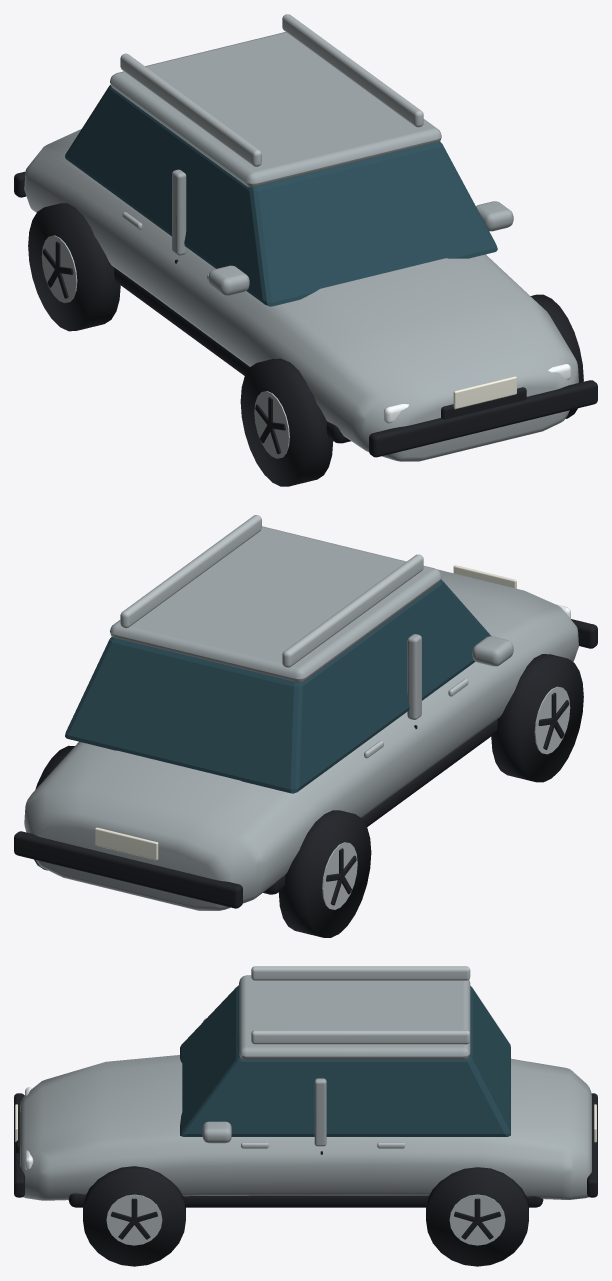
The model's file is suv.glb.
The picture shows the model from 3 angles, top to bottom: view 1: azimuth 30°, elevation 25°; view 2: azimuth 150°, elevation 25°; view 3: azimuth 270°, elevation 25°; orthographic projection. The views are drawn at different scales.
Parts seen in each view (by area): view 1: BodyPaint.001, Glass.001, Rubber.001, Alloy.001, Road paint; view 2: BodyPaint.001, Glass.001, Rubber.001, Alloy.001, Road paint; view 3: BodyPaint.001, Glass.001, Rubber.001, Alloy.001.
Part boxes in pixels (x1=…): BodyPaint.001: x1=24, y1=32, x2=578, y2=461; Glass.001: x1=65, y1=85, x2=497, y2=306; Rubber.001: x1=14, y1=171, x2=597, y2=486; Alloy.001: x1=41, y1=14, x2=423, y2=458; Road paint: x1=453, y1=376, x2=516, y2=409; BodyPaint.001: x1=24, y1=526, x2=578, y2=910; Glass.001: x1=65, y1=580, x2=491, y2=793; Rubber.001: x1=14, y1=619, x2=597, y2=937; Alloy.001: x1=120, y1=515, x2=570, y2=909; Road paint: x1=95, y1=565, x2=516, y2=860; BodyPaint.001: x1=20, y1=975, x2=591, y2=1200; Glass.001: x1=180, y1=985, x2=510, y2=1136; Rubber.001: x1=14, y1=1093, x2=597, y2=1266; Alloy.001: x1=106, y1=966, x2=505, y2=1245.
Size of the model in its own units: 2.24 by 1.93 by 4.8.
